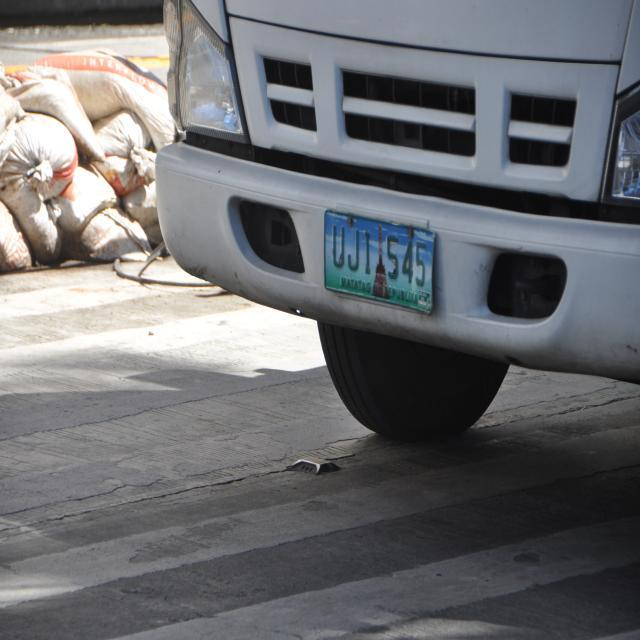LicensePlate: (300, 205, 461, 320)
